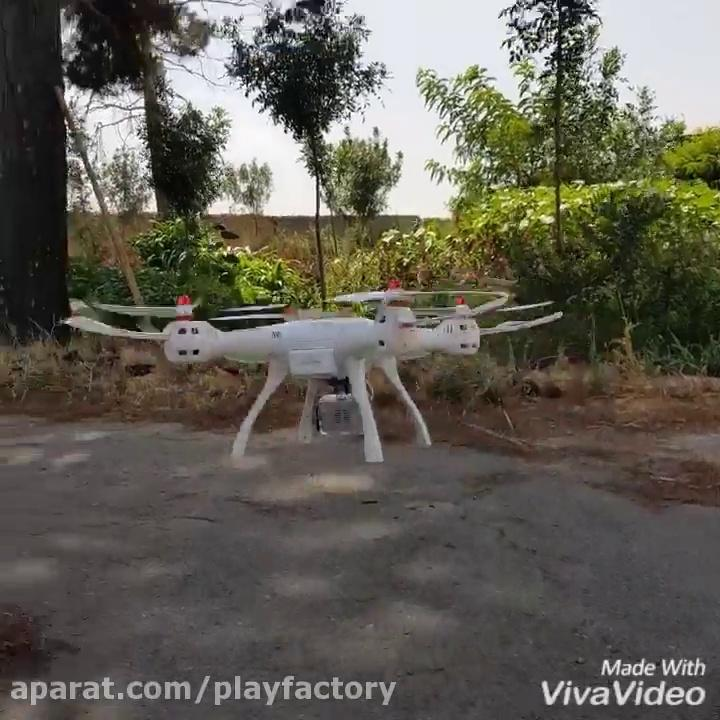drone: (55, 278, 566, 464)
